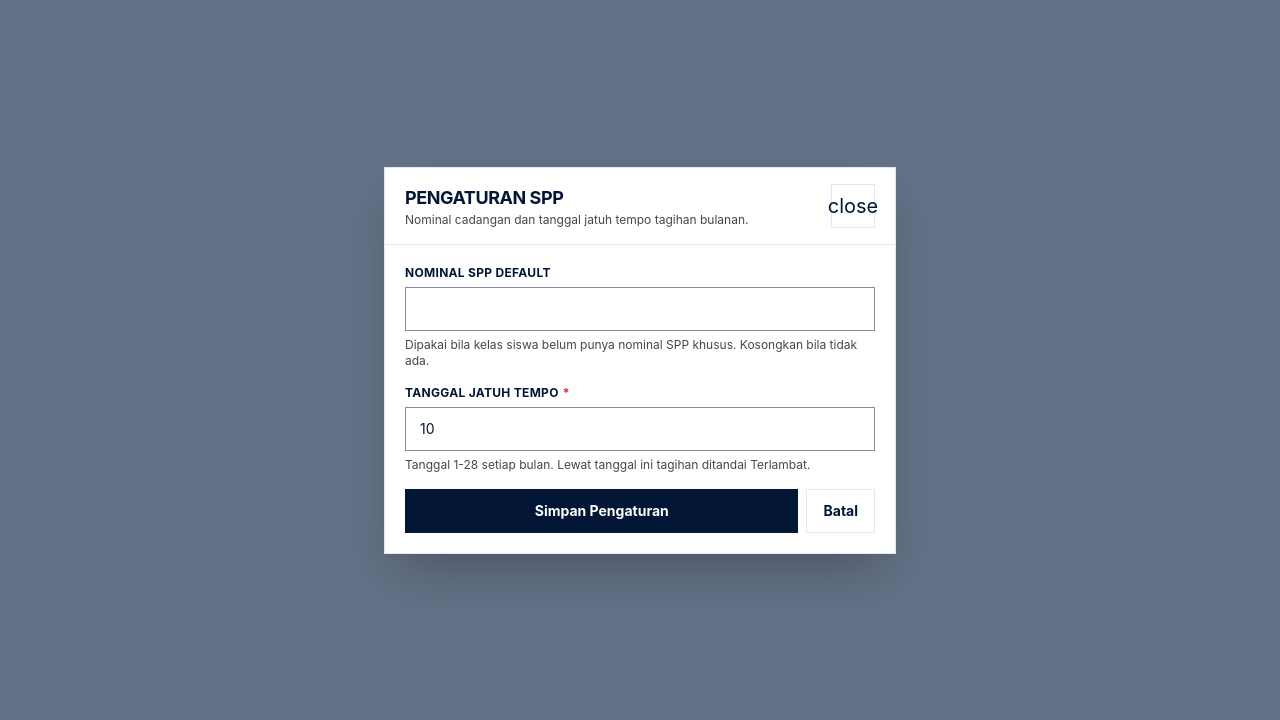
Test case: SppSettingsModal › menampilkan error server di dalam modal
The image size is (1280, 720).
What coordinates should you click on to do the following:
click the button "Simpan Pengaturan"
I would click on:
 (602, 510)
Its box is [405,488,798,532].
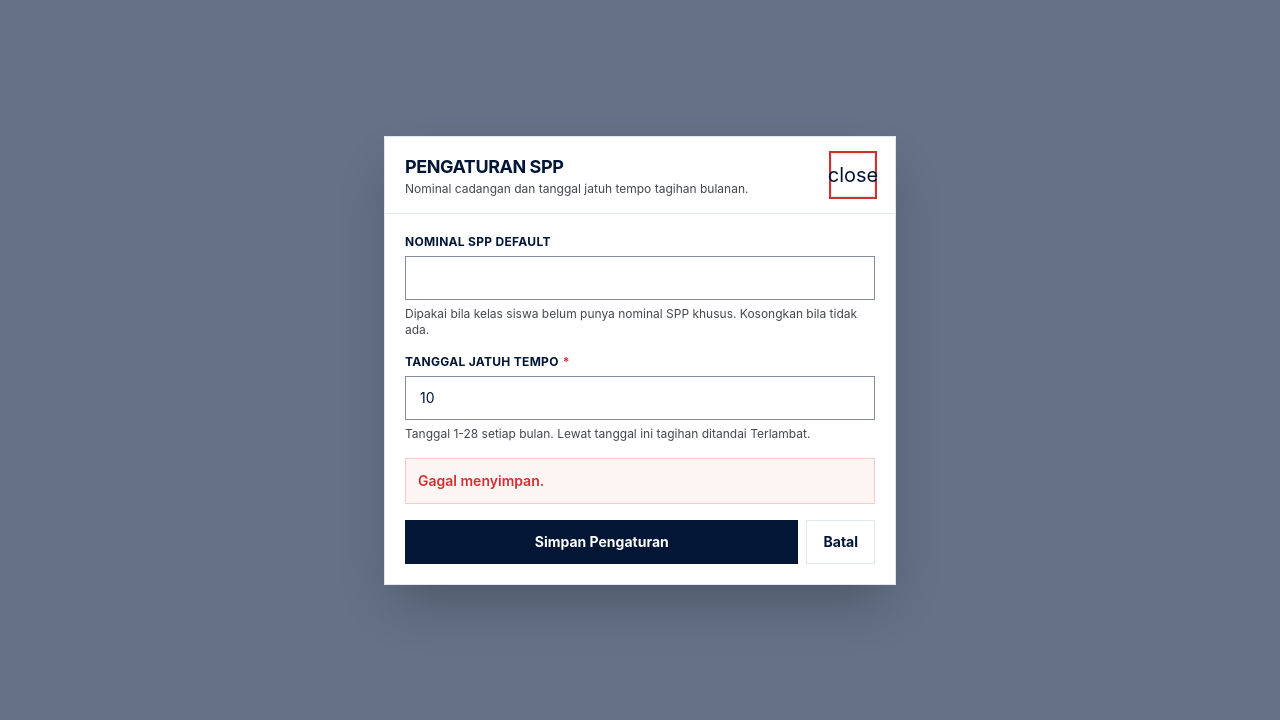
Check: the text "Gagal menyimpan." is shown, box [405,458,875,504]
